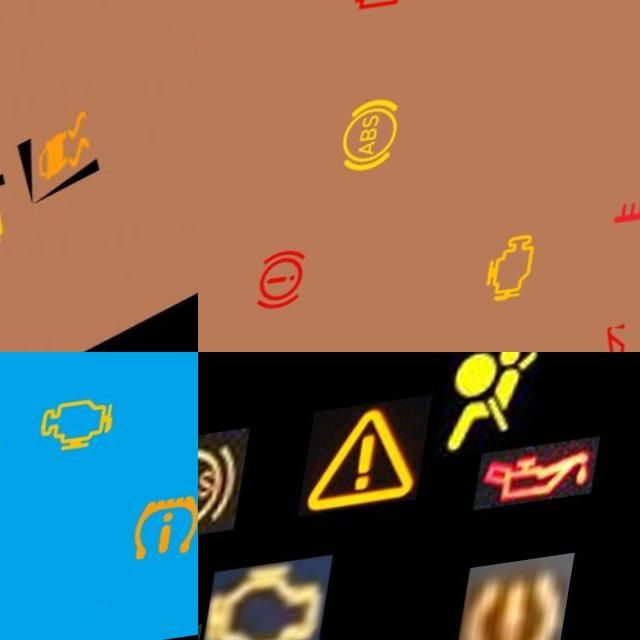Central Warning lamp: (307, 407, 439, 526)
High Engine Coolant Temperature: (611, 191, 640, 276)
